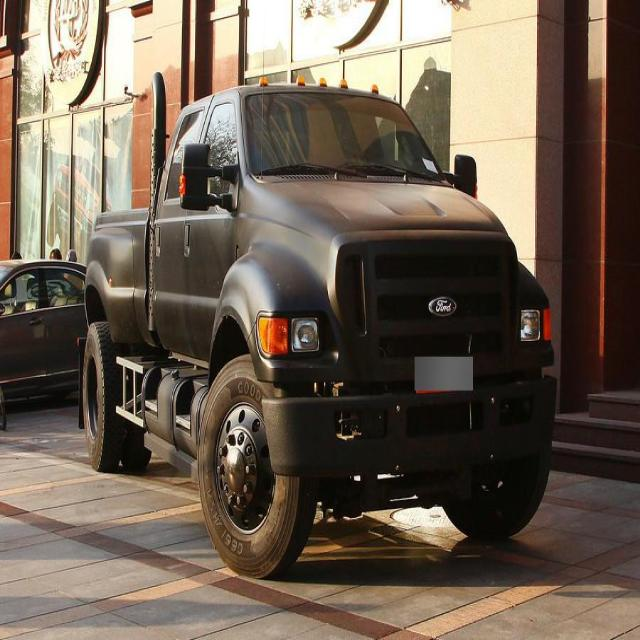front_bumper: (257, 374, 561, 468)
front_glass: (242, 86, 443, 187)
front_left_side_light: (511, 298, 554, 354)
front_left_side_mirror: (452, 149, 478, 199)
front_right_side_door: (182, 95, 246, 368)
front_right_side_light: (255, 301, 337, 367)
front_right_side_mirror: (180, 138, 232, 210)
wheel: (196, 350, 316, 578), (439, 440, 552, 535), (83, 323, 147, 475)
